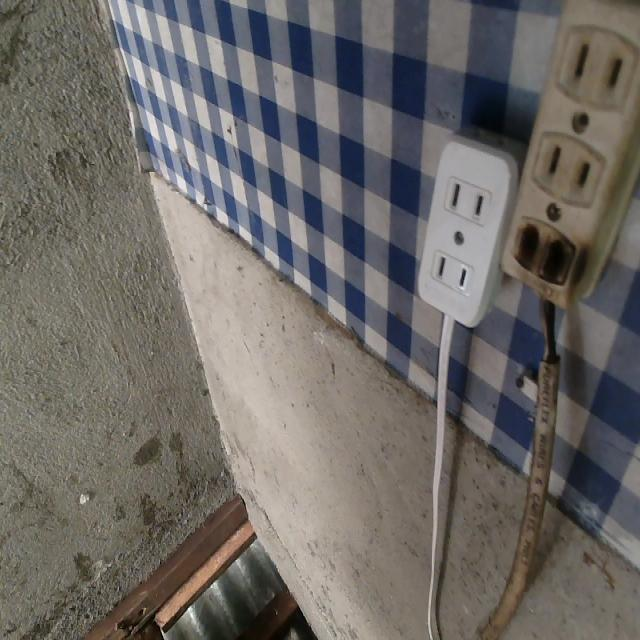-: (504, 207, 579, 296)
